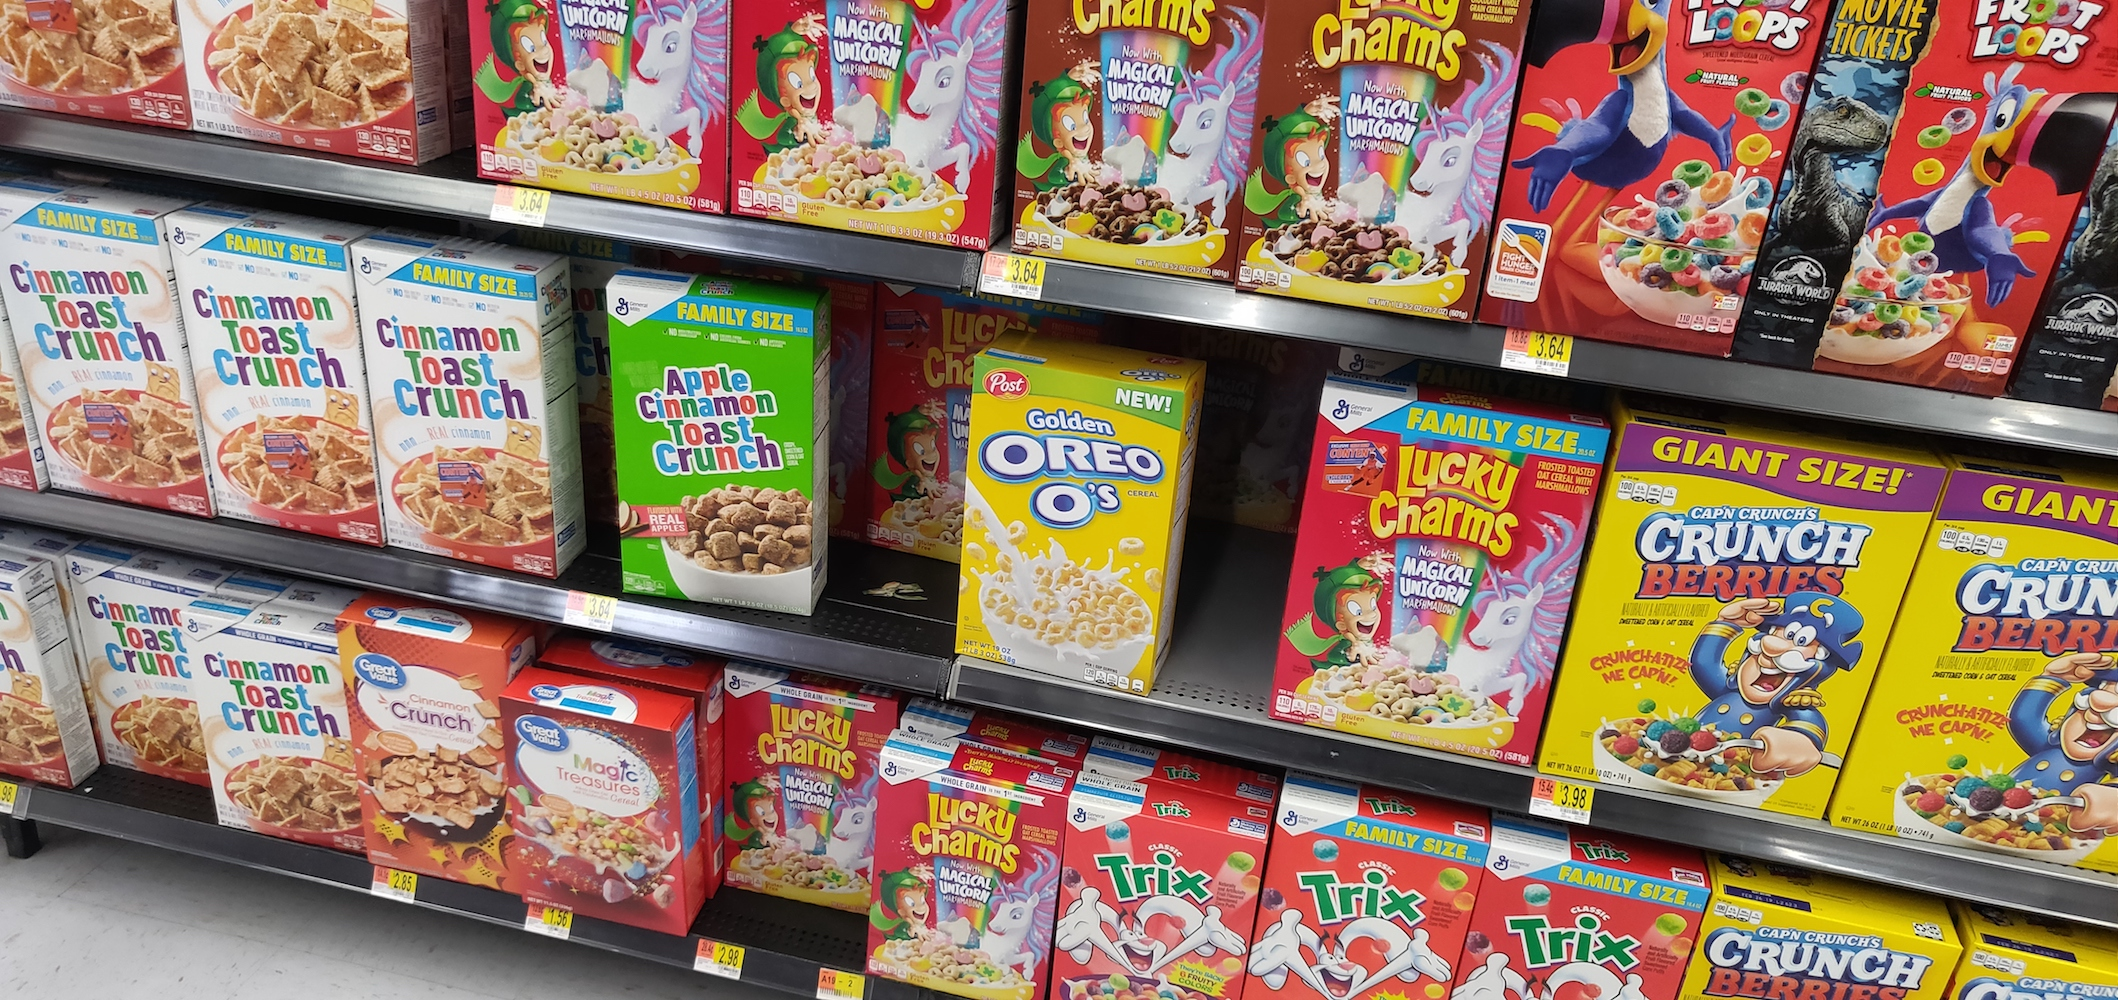Oreo Golden-568301011: (968, 342, 1168, 684)
